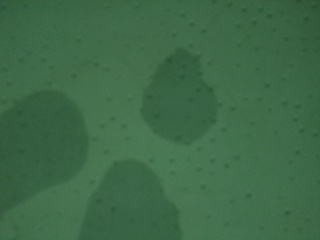Water_detected: (0, 106, 75, 206), (86, 177, 161, 240), (151, 70, 207, 133)
